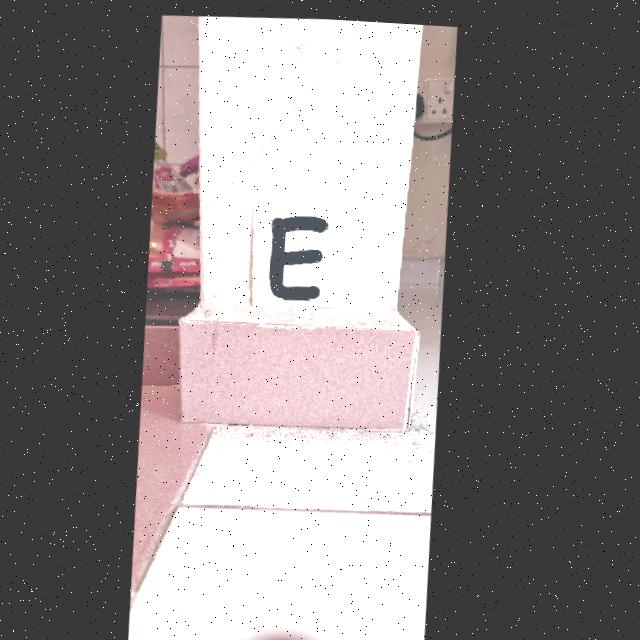E: (274, 212, 331, 295)
